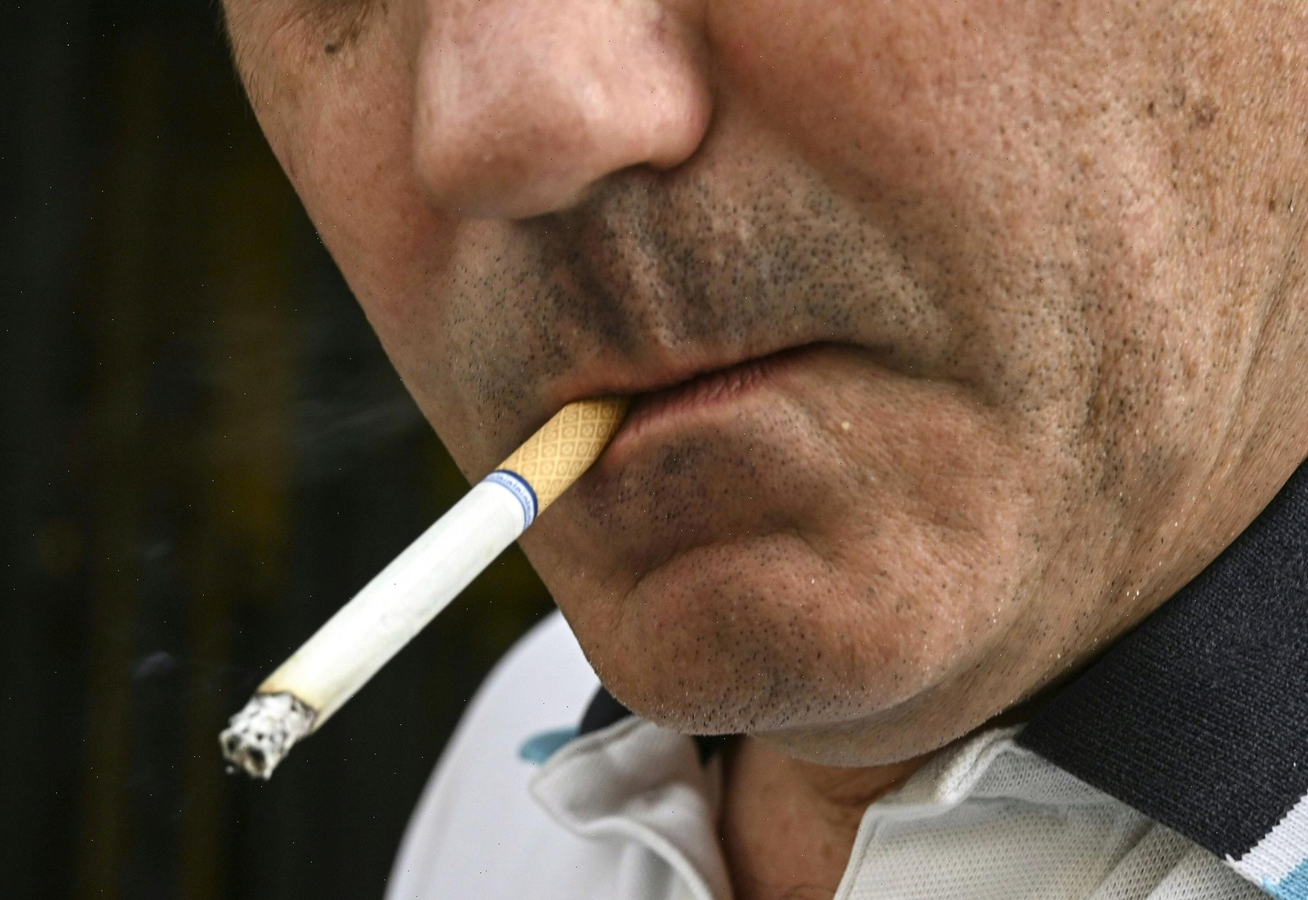cigarette: (220, 399, 628, 778)
